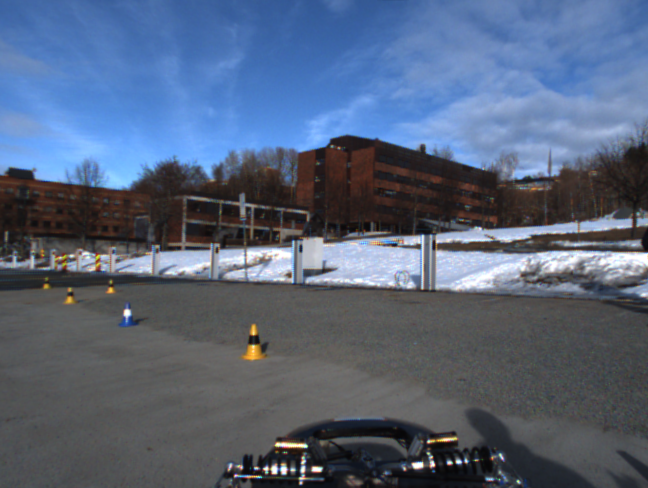cone-small-blue: (117, 302, 138, 327)
cone-small-yellow: (239, 323, 269, 362), (63, 286, 78, 304), (105, 279, 116, 294), (42, 277, 52, 289)
